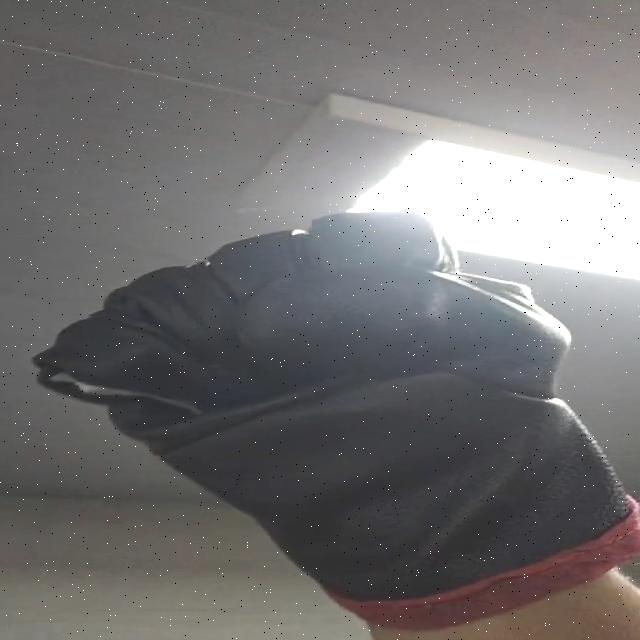Gloves: (29, 211, 640, 621)
